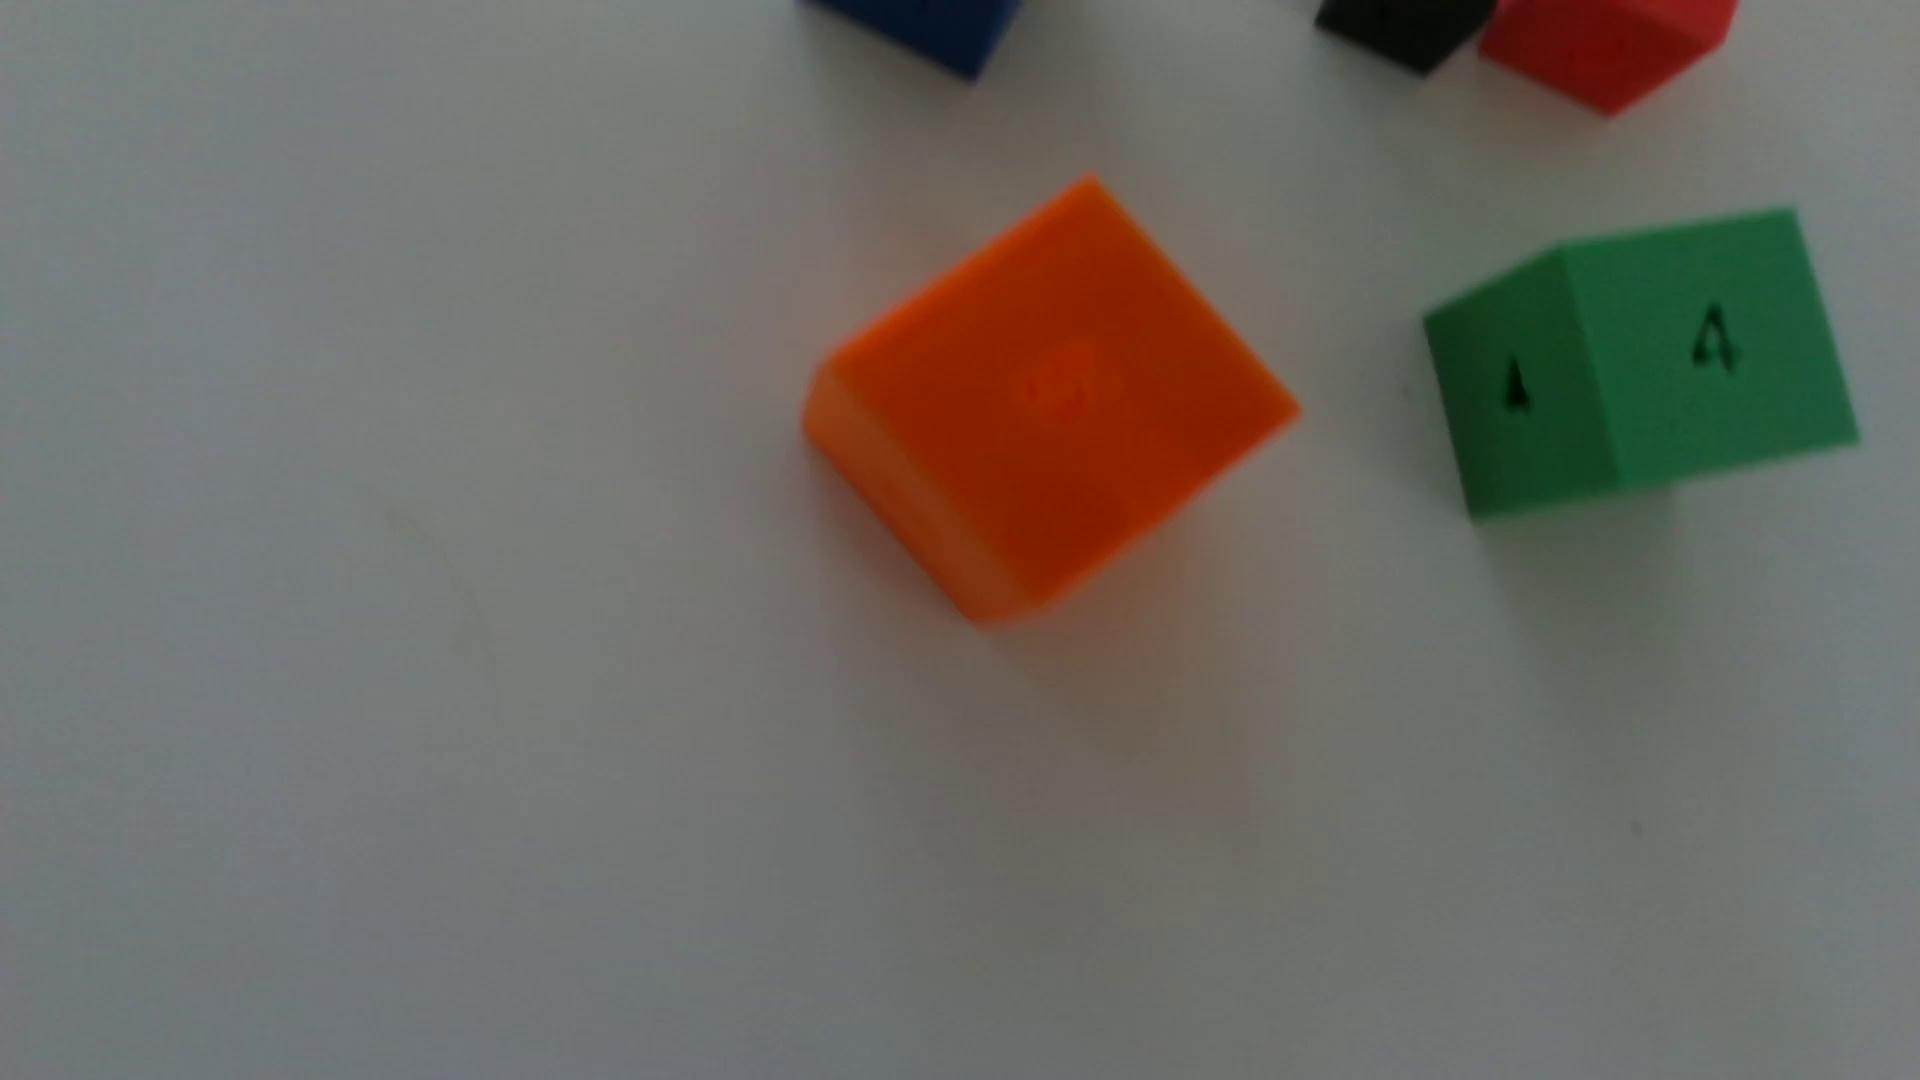black: (1315, 0, 1497, 78)
blue: (810, 0, 1022, 82)
green: (1424, 210, 1858, 520)
orange: (802, 179, 1298, 625)
red: (1480, 0, 1738, 117)
